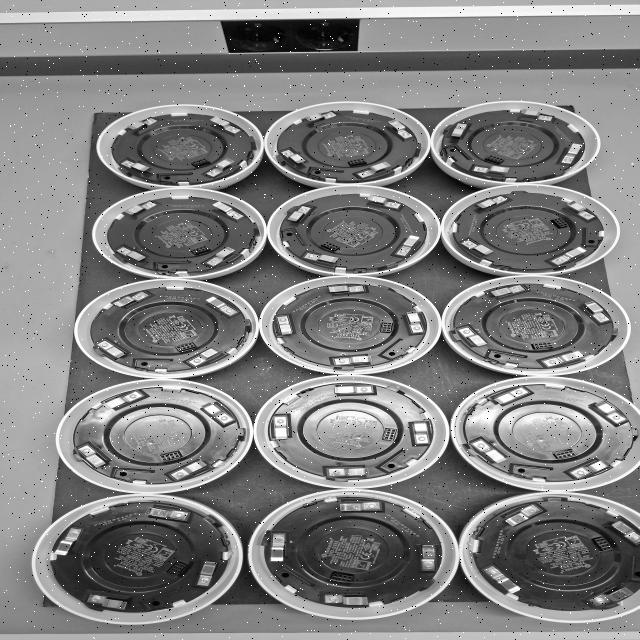yaysiz: (484, 566, 524, 596), (589, 585, 634, 607), (472, 439, 509, 465), (502, 504, 541, 528), (490, 386, 532, 407), (570, 458, 614, 478), (591, 400, 626, 424), (172, 459, 212, 480), (200, 401, 234, 425), (54, 528, 82, 557), (102, 391, 142, 411), (563, 200, 598, 222), (549, 246, 589, 265), (392, 233, 422, 258), (609, 520, 640, 544), (202, 296, 239, 316), (94, 340, 131, 360), (112, 291, 150, 310), (87, 595, 135, 610), (188, 347, 222, 368), (543, 350, 585, 367), (460, 238, 495, 258), (79, 445, 108, 469), (209, 201, 245, 220), (122, 200, 158, 219), (458, 327, 490, 348), (582, 300, 611, 323), (363, 194, 404, 210), (139, 507, 189, 520), (197, 559, 220, 587), (270, 534, 291, 564), (208, 247, 239, 267), (385, 118, 413, 140), (286, 204, 315, 225), (209, 116, 242, 134), (358, 162, 392, 179), (473, 196, 509, 212), (116, 246, 148, 264), (302, 252, 342, 266), (418, 542, 438, 570), (560, 142, 584, 165), (324, 594, 370, 606), (208, 158, 236, 177), (121, 159, 152, 176), (280, 148, 309, 166), (410, 418, 430, 444), (518, 109, 557, 122), (274, 416, 292, 444), (126, 117, 159, 132), (336, 501, 381, 512), (488, 285, 525, 298), (324, 284, 364, 296), (333, 356, 379, 366), (304, 111, 338, 124), (472, 165, 512, 176), (405, 310, 423, 334), (276, 315, 294, 337), (330, 385, 373, 394), (328, 468, 374, 476), (450, 123, 470, 140)
